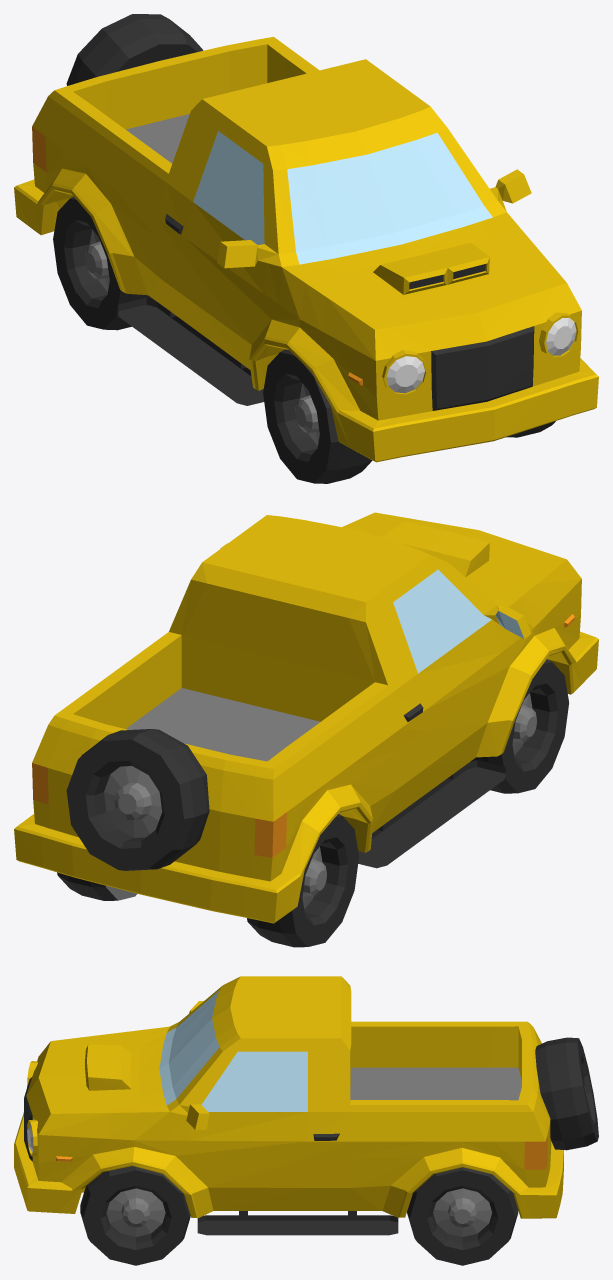
3 views of the same model, one above another, from view 1: azimuth 30°, elevation 25°; view 2: azimuth 150°, elevation 25°; view 3: azimuth 270°, elevation 25° (orthographic). The views are drawn at different scales.
Parts seen in each view (by area): view 1: Jeep; view 2: Jeep; view 3: Jeep.
Part boxes in pixels (left/top/right/bottom): Jeep: left=14, top=14, right=598, bottom=483; Jeep: left=14, top=512, right=598, bottom=947; Jeep: left=14, top=976, right=598, bottom=1265.
Size of the model in its own units: 45.5 by 39.29 by 96.46.
